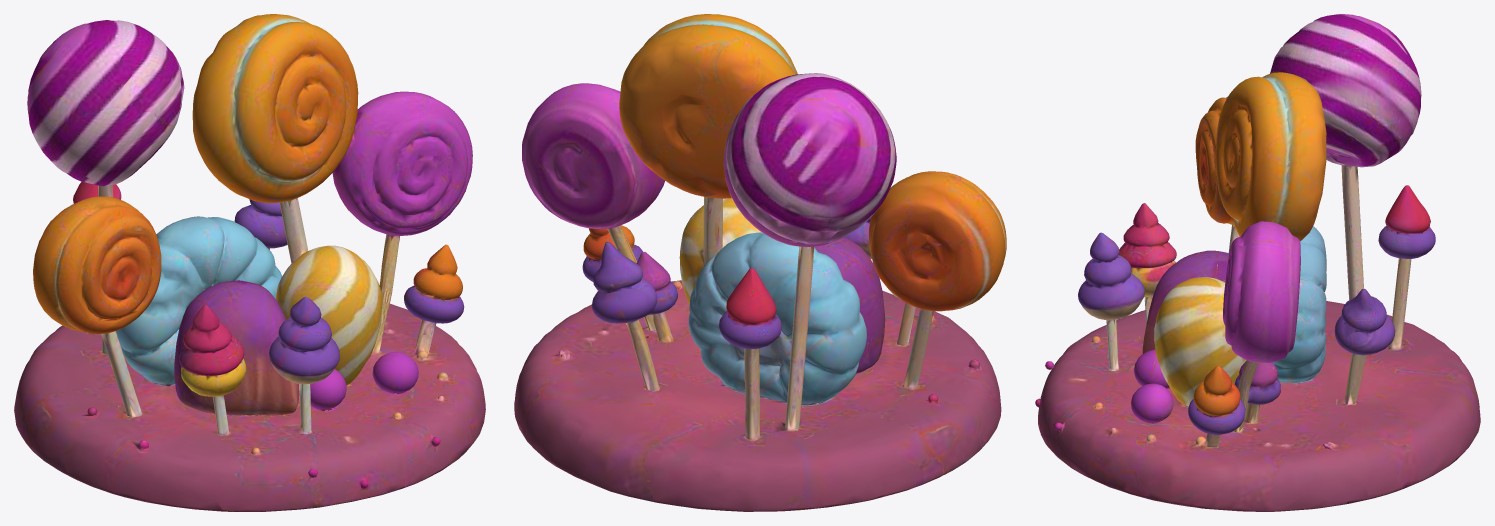
3 views of the same model, side by side, from view 1: azimuth 30°, elevation 25°; view 2: azimuth 150°, elevation 25°; view 3: azimuth 270°, elevation 25° (orthographic). The views are drawn at different scales.
Bounding box in the file's own units: 1.9 × 1.54 × 1.76.
1 material, 1 textured.
